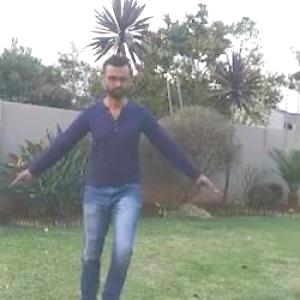land: (23, 17, 194, 299)
